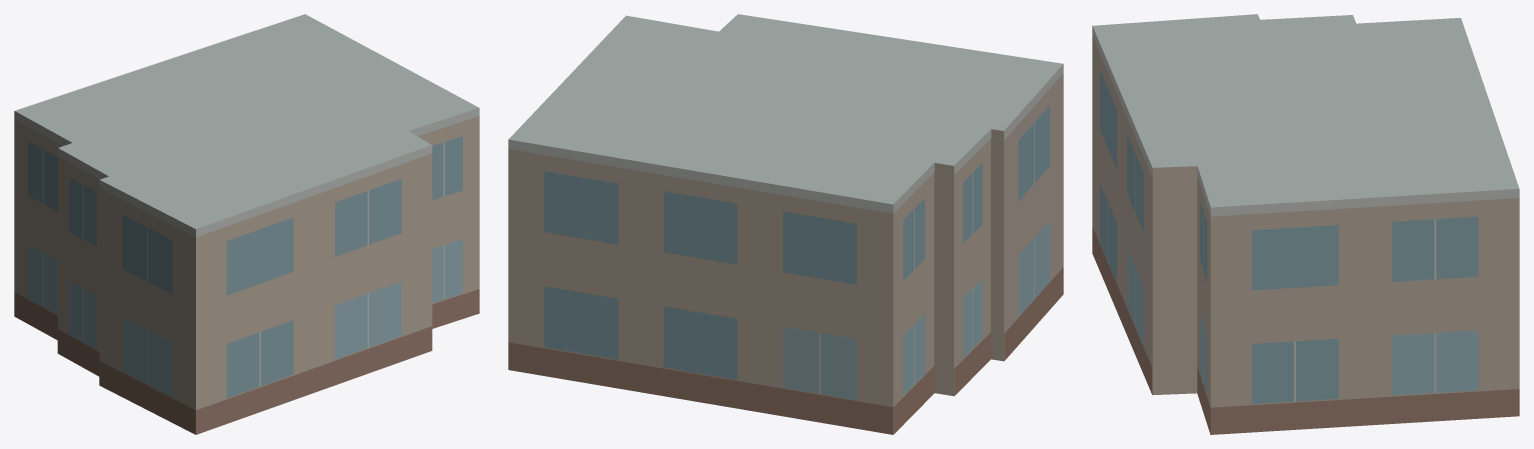
File: survey-upis-32670322.glb
3 renders of one model, left to right at view 1: azimuth 30°, elevation 25°; view 2: azimuth 150°, elevation 25°; view 3: azimuth 270°, elevation 25°, orthographic. The views are drawn at different scales.
Visible parts, largest first — view 1: survey-upis-32670322.tmp; view 2: survey-upis-32670322.tmp; view 3: survey-upis-32670322.tmp.
Boxes of the visible parts, x1=… form: survey-upis-32670322.tmp: x1=14, y1=14, x2=479, y2=434; survey-upis-32670322.tmp: x1=508, y1=14, x2=1063, y2=434; survey-upis-32670322.tmp: x1=1092, y1=14, x2=1519, y2=434.
Bounding box in the file's own units: 11.15 × 6.1 × 10.4.
